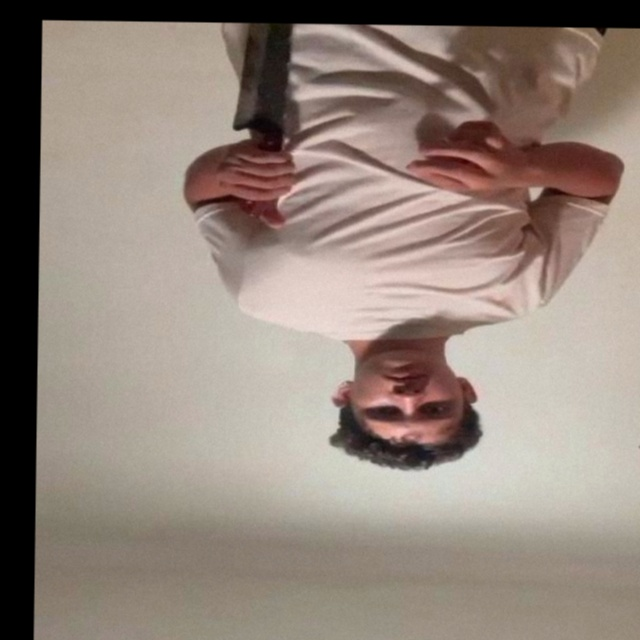Sharp-Object: (230, 22, 294, 137)
